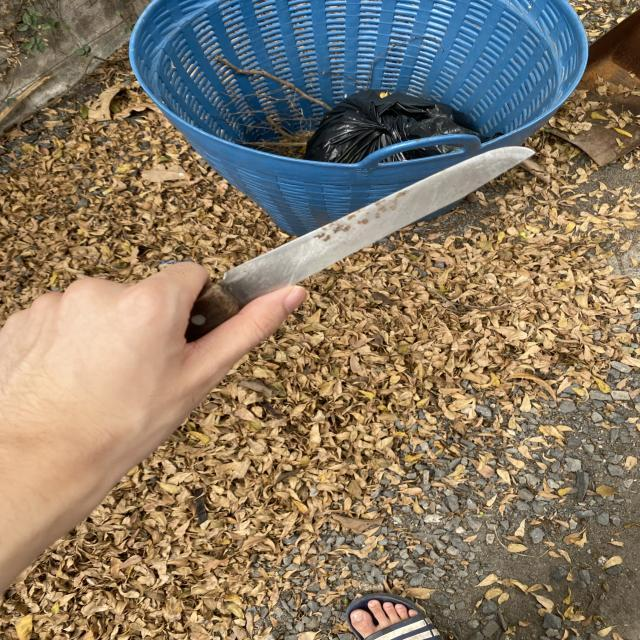faca: (0, 129, 577, 459)
